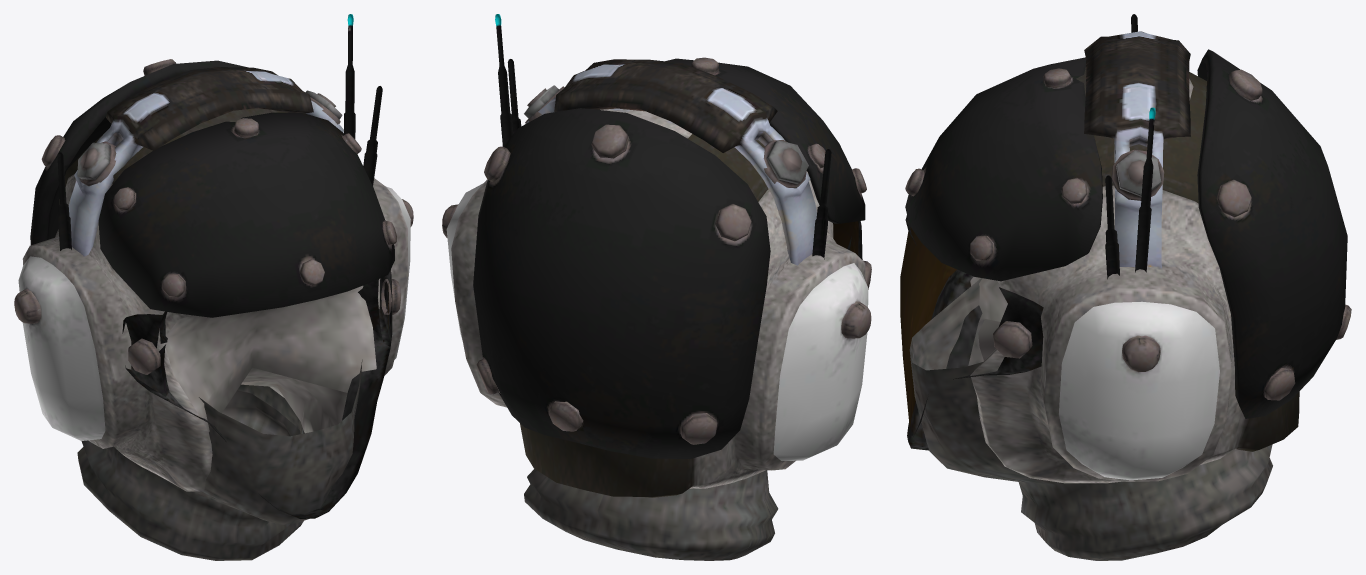
Rendered from SurvivorMale_Head_Helmet_AviatorFaceShield_LOD0.glb.
The picture shows the model from 3 angles, left to right: view 1: azimuth 30°, elevation 25°; view 2: azimuth 150°, elevation 25°; view 3: azimuth 270°, elevation 25°; orthographic projection. The views are drawn at different scales.
Parts seen in each view (by area): view 1: Hoodie; view 2: Hoodie; view 3: Hoodie.
Part boxes in pixels (x1,y1,x2,y2): Hoodie: (14, 14, 413, 560); Hoodie: (442, 14, 871, 560); Hoodie: (900, 14, 1351, 560).
Size of the model in its own units: 0.2888 by 0.3372 by 0.2697.
1 material, 1 textured.
